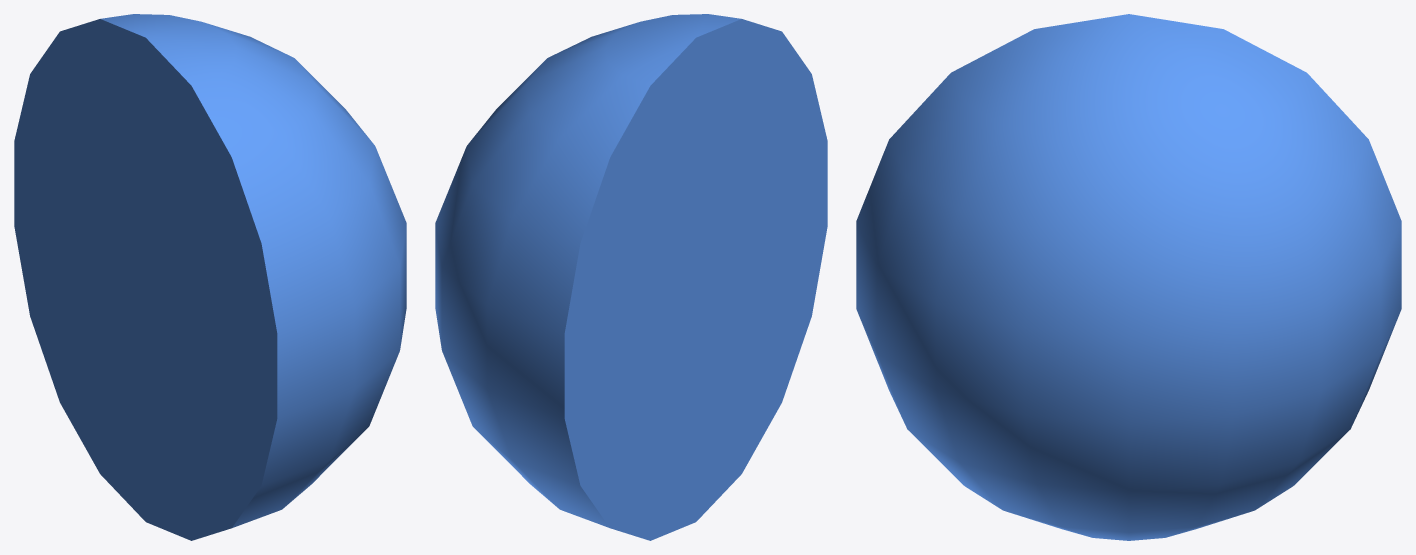
Rendered from diff_2.3.fbx.
The picture shows the model from 3 angles, left to right: view 1: azimuth 30°, elevation 25°; view 2: azimuth 150°, elevation 25°; view 3: azimuth 270°, elevation 25°; orthographic projection. The views are drawn at different scales.
Visible parts, largest first — view 1: Sphere.002; view 2: Sphere.002; view 3: Sphere.002.
Part boxes in pixels (x1=…): Sphere.002: x1=14, y1=14, x2=406, y2=540; Sphere.002: x1=435, y1=14, x2=827, y2=540; Sphere.002: x1=856, y1=14, x2=1401, y2=540.
Size of the model in its own units: 213 by 433 by 426.
